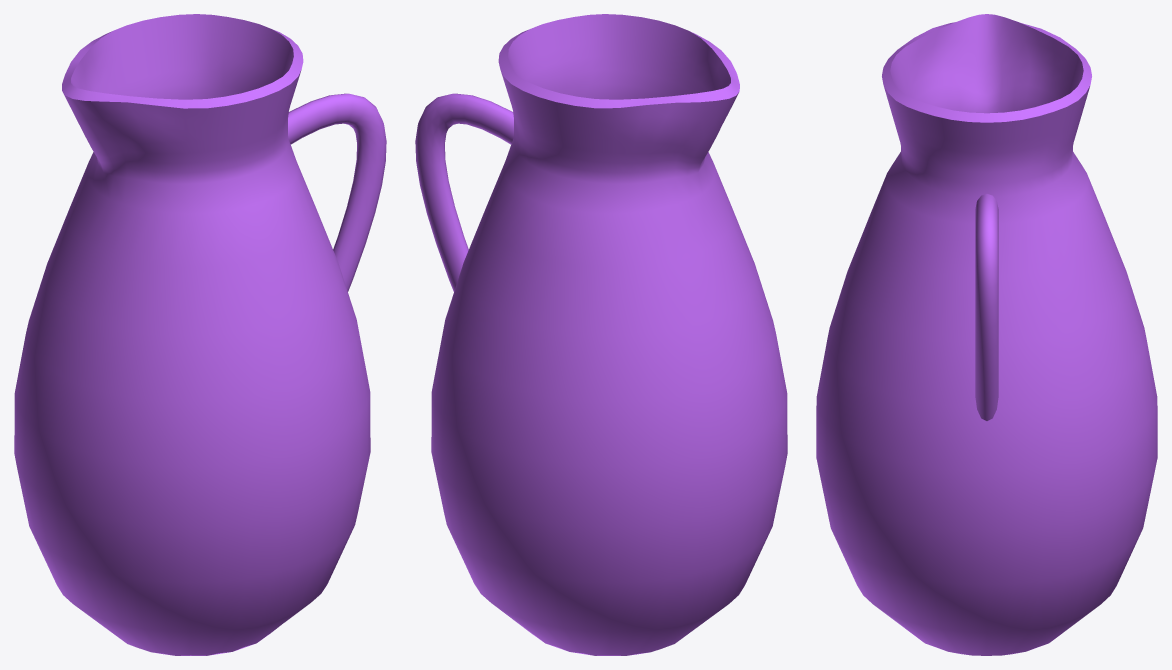
Rendered from Jarra.FBX.
3 views of the same model, side by side, from view 1: azimuth 30°, elevation 25°; view 2: azimuth 150°, elevation 25°; view 3: azimuth 270°, elevation 25° (orthographic). The views are drawn at different scales.
Parts seen in each view (by area): view 1: Jarra; view 2: Jarra; view 3: Jarra.
Boxes of the visible parts, x1,y1,x2,y2 form: Jarra: [14, 14, 386, 655]; Jarra: [415, 14, 787, 655]; Jarra: [816, 14, 1157, 655].
Size of the model in its own units: 25.52 by 22.24 by 39.63.
